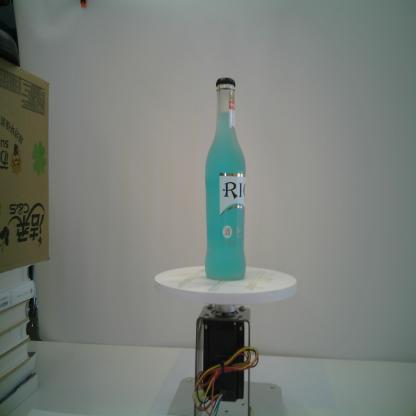Alcohol: (204, 76, 246, 282)
